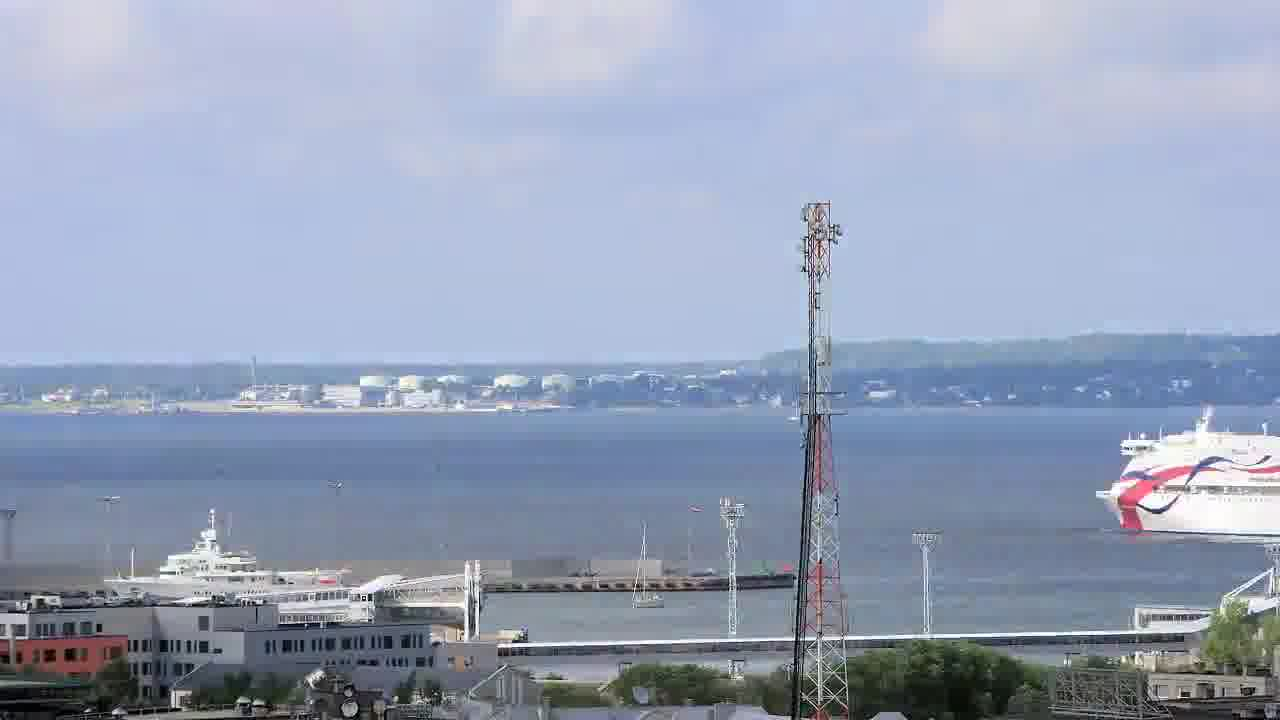type-0: (624, 517, 676, 615)
type-3: (1079, 409, 1280, 555), (96, 508, 381, 605)
